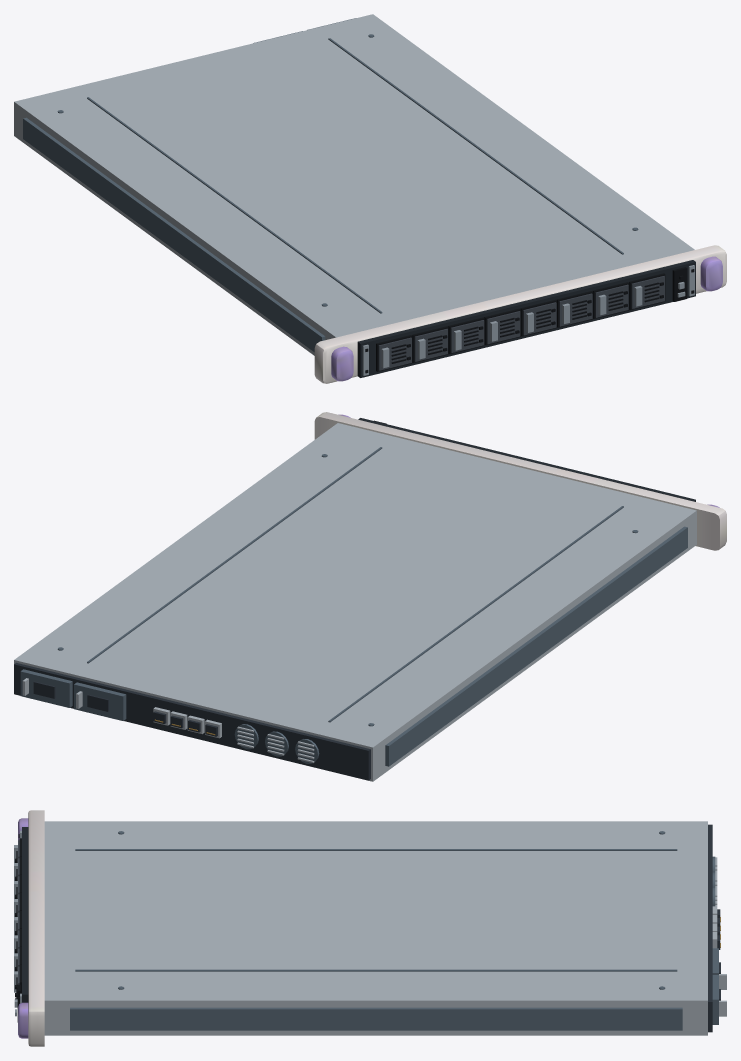
Rendered from serveur-1u.glb.
3 renders of one model, top to bottom at view 1: azimuth 30°, elevation 25°; view 2: azimuth 150°, elevation 25°; view 3: azimuth 270°, elevation 25°, orthographic. The views are drawn at different scales.
Parts seen in each view (by area): view 1: server-1u 3, Façade 3, Poignée 3-2, Poignée 3-1; view 2: server-1u 3, Façade 3; view 3: server-1u 3, Façade 3, Poignée 3-2.
Boxes of the visible parts, x1,y1,x2,y2 form: server-1u 3: (14,14,695,377); Façade 3: (314,245,726,383); Poignée 3-2: (700,256,722,291); Poignée 3-1: (331,346,353,381); server-1u 3: (14,418,696,781); Façade 3: (314,412,726,550); server-1u 3: (14,821,726,1035); Façade 3: (28,810,44,1046); Poignée 3-2: (18,1002,28,1038).
Size of the model in its own units: 0.47 by 0.0415 by 0.6985.
11 materials, 1 textured.
